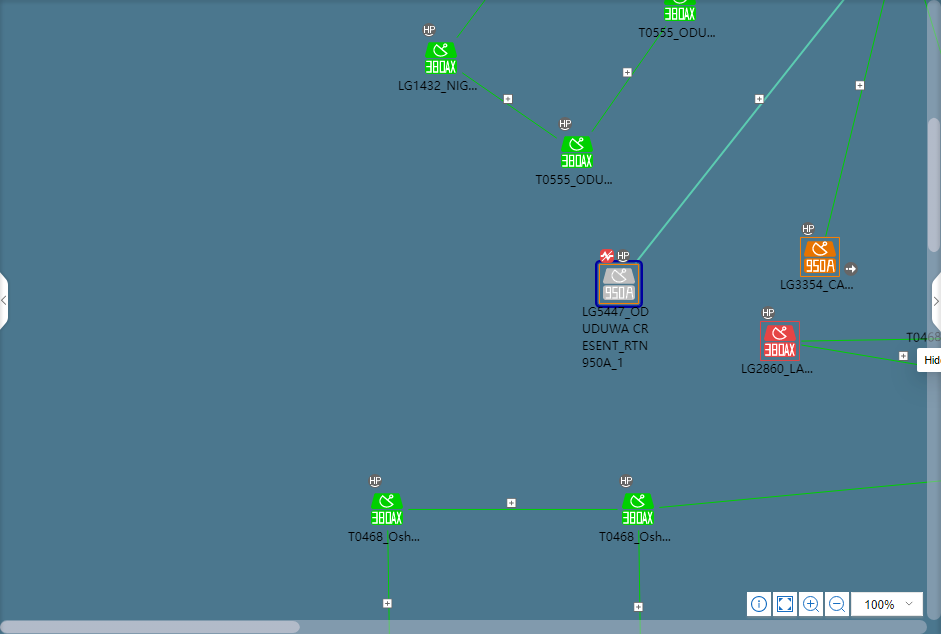Link_Green: (823, 0, 887, 235), (590, 25, 670, 136), (655, 480, 941, 508), (462, 71, 556, 142), (800, 344, 916, 367), (455, 0, 488, 40), (408, 507, 617, 512), (800, 337, 941, 343), (637, 528, 643, 634), (385, 529, 391, 634)
RTN_Gray: (600, 267, 635, 302)
RTN_Green: (561, 136, 593, 168), (371, 494, 402, 526), (622, 494, 653, 526), (425, 42, 456, 74), (664, 0, 695, 20)
RTN_Orange: (802, 240, 837, 274)
RTN_Red: (763, 325, 796, 357)
